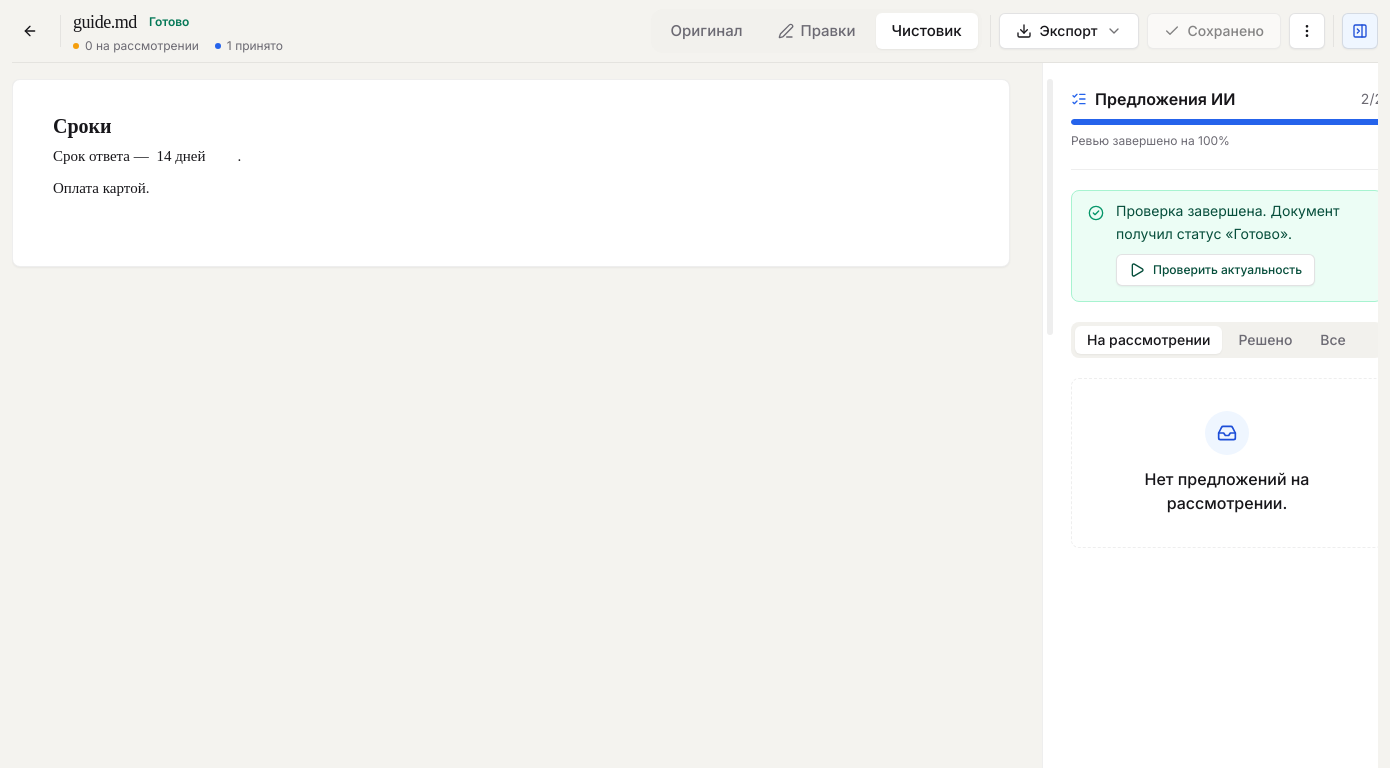
Редактор правок › отмена сохранённого решения в готовом документе возвращает его на утверждение
The width and height of the screenshot is (1390, 768).
Expected: the radio button labelled "Чистовик" is checked, [876, 13, 978, 49]
Step 1. Click the radio button labelled "Все" → (1333, 340), box [1308, 326, 1358, 354]
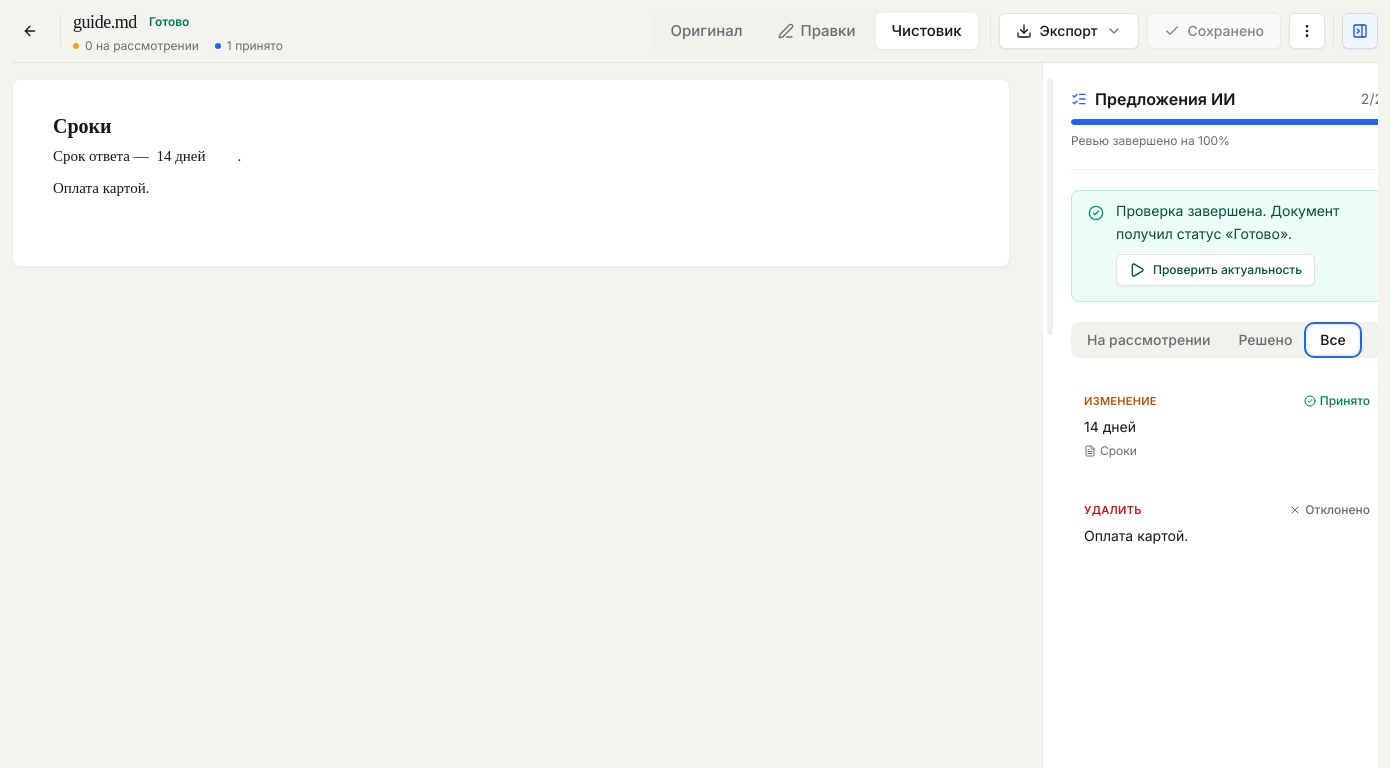
Step 2. Click the text "14 дней" below "Ревью завершено на" → (1110, 426), box [1084, 418, 1136, 434]
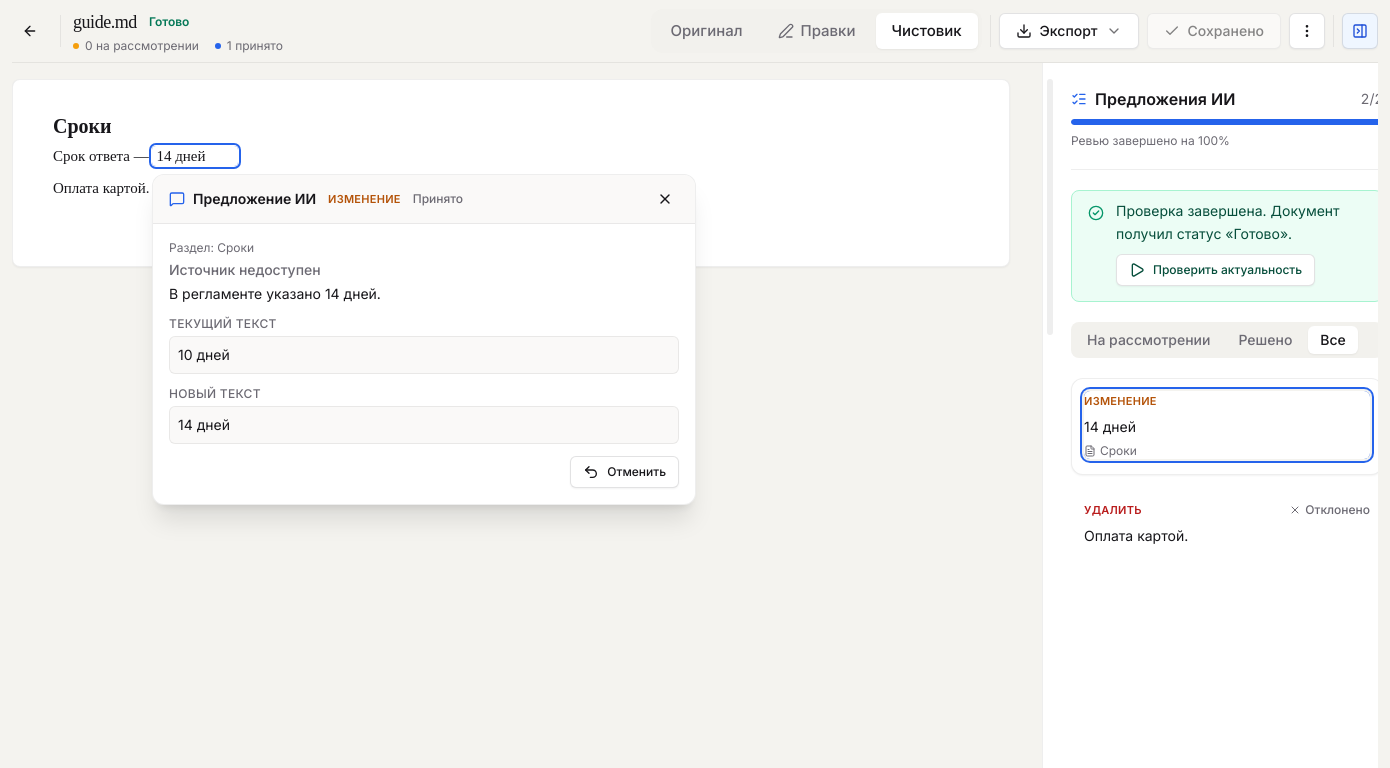
Expected: the button "Принять" is not shown
Step 3. Click the button "Отменить" → (625, 472), box [570, 456, 679, 488]
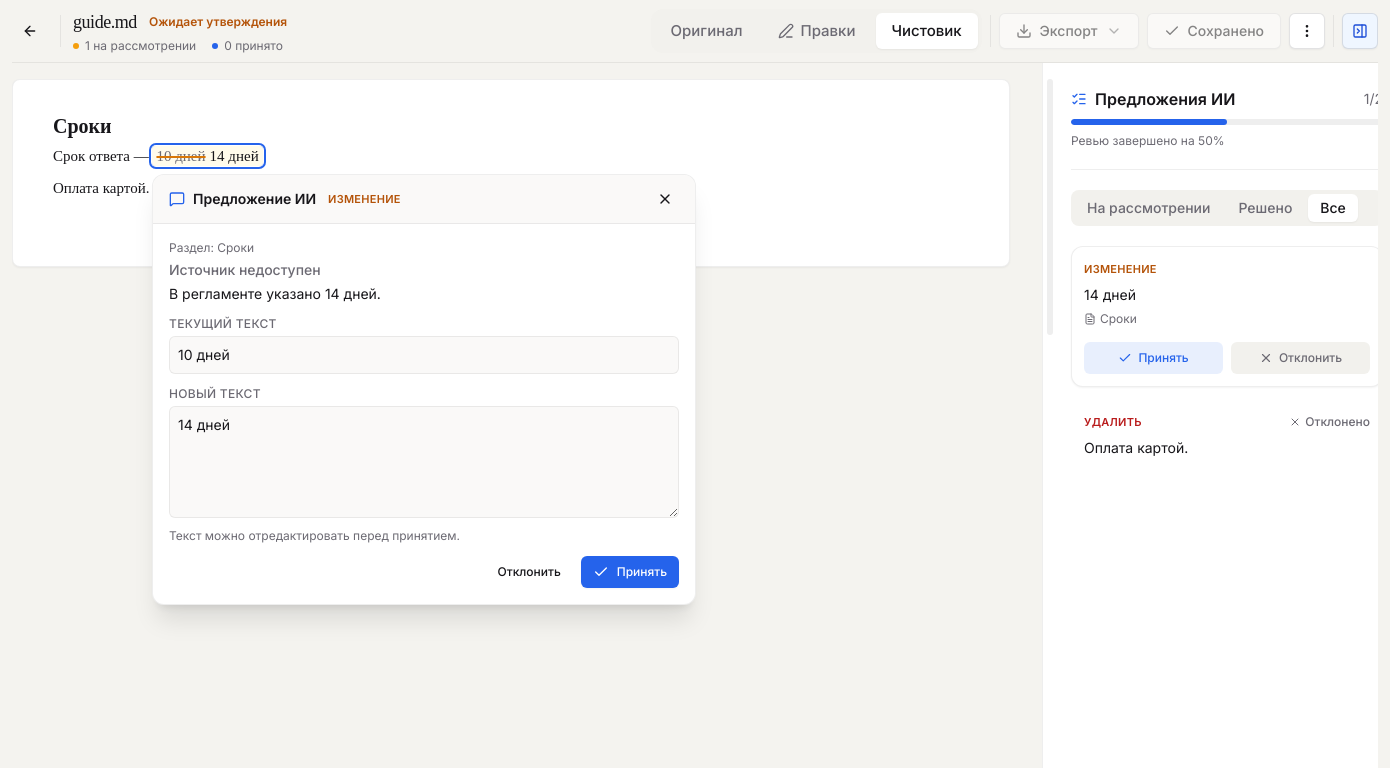
Expected: the text "Ожидает утверждения" is shown, [149, 14, 287, 30]
